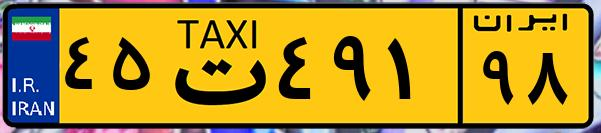1: (385, 28, 445, 110)
4: (270, 28, 330, 110), (57, 26, 110, 100)
5: (110, 28, 158, 98)
8: (525, 38, 570, 115)
9: (330, 28, 385, 110), (475, 38, 525, 113)
ت: (158, 12, 270, 120)
